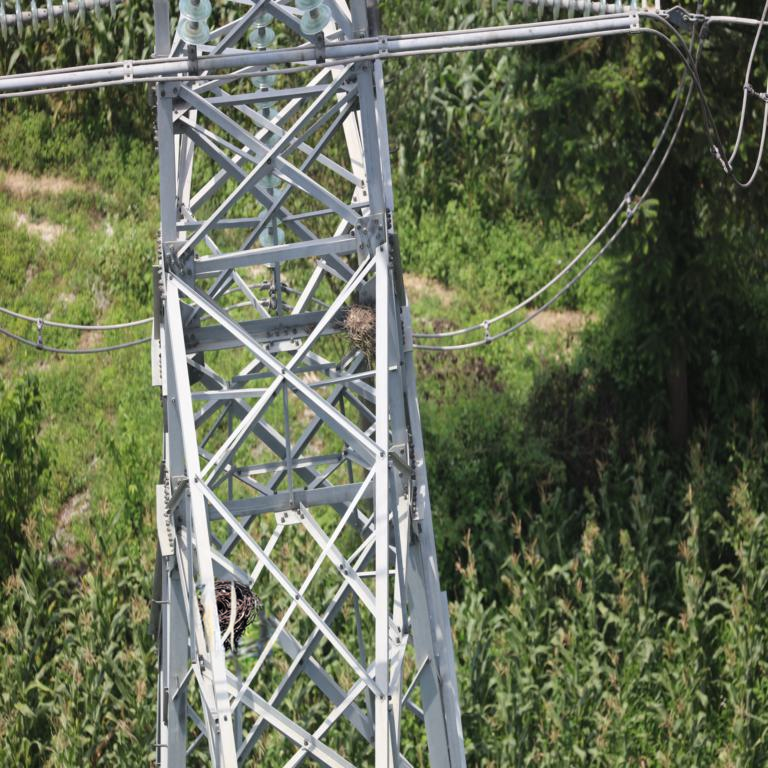nest: (195, 581, 256, 635), (335, 304, 378, 347)
